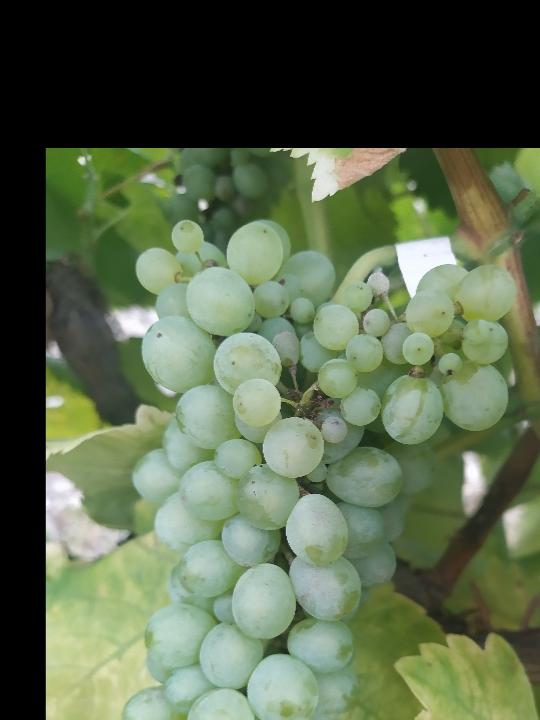grape: (118, 215, 520, 720)
